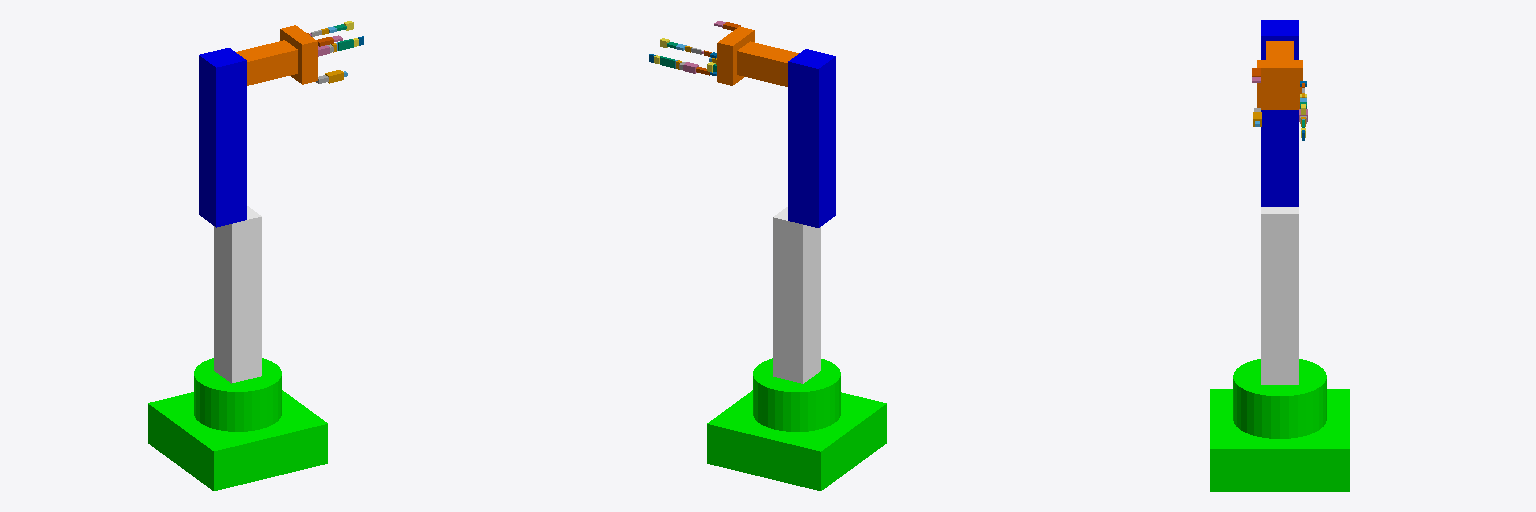
robot.urdf — robot:
<?xml version='1.0' encoding='utf-8'?>
<robot name="robot">
  <link name="base_link">
    <visual>
      <origin xyz="0 0 0.125" rpy="0 0 0" />
      <geometry>
        <box size="0.75 0.75 0.25" />
      </geometry>
      <material name="green" />
    </visual>
    <visual>
      <origin xyz="0 0 0.375" rpy="0 0 0" />
      <geometry>
        <cylinder length="0.25" radius="0.25" />
      </geometry>
      <material name="green">
        <color rgba="0 1 0 1" />
      </material>
    </visual>
    <collision>
      <geometry>
        <box size="0.75 0.75 0.5" />
      </geometry>
    </collision>
    <inertial>
      <mass value="0.5" />
      <inertia ixx="0.034" ixy="0.0" ixz="0.0" iyy="0.034" iyz="0.0" izz="0.034" />
    </inertial>
  </link>
  <link name="support_link">
    <visual>
      <origin xyz="0 0 0.5" rpy="0 0 0" />
      <geometry>
        <box size="0.2 0.2 1" />
      </geometry>
      <material name="white">
        <color rgba="1 1 1 1" />
      </material>
    </visual>
    <collision>
      <geometry>
        <box size="0.2 0.2 1" />
      </geometry>
    </collision>
    <inertial>
      <mass value="0.1" />
      <inertia ixx="0.01" ixy="0.0" ixz="0.0" iyy="0.01" iyz="0.0" izz="0.01" />
    </inertial>
  </link>
  <joint name="support_joint" type="continuous">
    <origin xyz="0 0 0.5" rpy="0 0 0" />
    <parent link="base_link" />
    <child link="support_link" />
    <axis xyz="0 0 1" />
  </joint>
  <link name="arm_link">
    <visual>
      <origin xyz="0 0 0.5" rpy="0 0 0" />
      <geometry>
        <box size="0.2 0.2 1" />
      </geometry>
      <material name="blue">
        <color rgba="0 0 1 1" />
      </material>
    </visual>
    <collision>
      <geometry>
        <box size="0.2 0.2 1" />
      </geometry>
    </collision>
    <inertial>
      <mass value="0.1" />
      <inertia ixx="0.01" ixy="0.0" ixz="0.0" iyy="0.01" iyz="0.0" izz="0.01" />
    </inertial>
  </link>
  <joint name="arm_joint" type="revolute">
    <origin xyz="-0.1 0 1" rpy="0 0 0" />
    <parent link="support_link" />
    <child link="arm_link" />
    <axis xyz="0 1 0" />
    <limit lower="-3.14" upper="3.14" effort="1.0" velocity="1.0" />
  </joint>
  <link name="wrist_link">
    <visual>
      <origin xyz="0 0 0.25" rpy="0 0 0" />
      <geometry>
        <box size="0.15 0.15 0.5" />
      </geometry>
      <material name="orange">
        <color rgba="1 0.5 0 1" />
      </material>
    </visual>
    <collision>
      <geometry>
        <box size="0.15 0.15 0.5" />
      </geometry>
    </collision>
    <inertial>
      <mass value="0.1" />
      <inertia ixx="0.01" ixy="0.0" ixz="0.0" iyy="0.01" iyz="0.0" izz="0.01" />
    </inertial>
  </link>
  <joint name="wrist_joint" type="fixed">
    <origin xyz="0 0 0.9" rpy="0 1.571 0" />
    <parent link="arm_link" />
    <child link="wrist_link" />
  </joint>
  <link name="palm_link">
    <visual>
      <origin xyz="0 0 0.05" rpy="0 0 0" />
      <geometry>
        <box size="0.25 0.25 0.1" />
      </geometry>
      <material name="orange" />
    </visual>
    <collision>
      <geometry>
        <box size="0.25 0.25 0.1" />
      </geometry>
    </collision>
    <inertial>
      <mass value="0.1" />
      <inertia ixx="0.01" ixy="0.0" ixz="0.0" iyy="0.01" iyz="0.0" izz="0.01" />
    </inertial>
  </link>
  <joint name="palm_joint" type="fixed">
    <origin xyz="0 0 0.45" rpy="0 0 0" />
    <parent link="wrist_link" />
    <child link="palm_link" />
  </joint>
  <link name="finger_link_0_0">
    <visual>
      <origin xyz="0 0 0.0475" rpy="0 0 0" />
      <geometry>
        <box size="0.025 0.045 0.095" />
      </geometry>
    </visual>
    <collision>
      <geometry>
        <box size="0.025 0.045 0.095" />
      </geometry>
    </collision>
    <inertial>
      <mass value="0.032" />
      <inertia ixx="0.0" iyy="0.0" izz="0.0" ixy="0" ixz="0" iyz="0" />
    </inertial>
  </link>
  <joint name="finger_joint_palm_link_to_finger_link_0_0" type="revolute">
    <origin xyz="-0.111 -0.125 0.1" rpy="0 0 0" />
    <parent link="palm_link" />
    <child link="finger_link_0_0" />
    <axis xyz="1.0 0.0 0.0" />
    <limit lower="-3.142" upper="3.142" effort="10" velocity="10" />
  </joint>
  <link name="finger_link_0_1">
    <visual>
      <origin xyz="0 0 0.0285" rpy="0 0 0" />
      <geometry>
        <box size="0.013 0.048 0.057" />
      </geometry>
    </visual>
    <collision>
      <geometry>
        <box size="0.013 0.048 0.057" />
      </geometry>
    </collision>
    <inertial>
      <mass value="0.011" />
      <inertia ixx="0.0" iyy="0.0" izz="0.0" ixy="0" ixz="0" iyz="0" />
    </inertial>
  </link>
  <joint name="finger_joint_finger_link_0_0_to_finger_link_0_1" type="revolute">
    <origin xyz="0.0 0.0 0.095" rpy="0 0 0" />
    <parent link="finger_link_0_0" />
    <child link="finger_link_0_1" />
    <axis xyz="0.0 1.0 0.0" />
    <limit lower="-3.142" upper="3.142" effort="10" velocity="10" />
  </joint>
  <link name="finger_link_1_0">
    <visual>
      <origin xyz="0 0 0.0325" rpy="0 0 0" />
      <geometry>
        <box size="0.029 0.036 0.065" />
      </geometry>
    </visual>
    <collision>
      <geometry>
        <box size="0.029 0.036 0.065" />
      </geometry>
    </collision>
    <inertial>
      <mass value="0.02" />
      <inertia ixx="0.0" iyy="0.0" izz="0.0" ixy="0" ixz="0" iyz="0" />
    </inertial>
  </link>
  <joint name="finger_joint_palm_link_to_finger_link_1_0" type="revolute">
    <origin xyz="0.125 -0.12 0.1" rpy="0 0 0" />
    <parent link="palm_link" />
    <child link="finger_link_1_0" />
    <axis xyz="0.0 1.0 0.0" />
    <limit lower="-3.142" upper="3.142" effort="10" velocity="10" />
  </joint>
  <link name="finger_link_1_1">
    <visual>
      <origin xyz="0 0 0.049" rpy="0 0 0" />
      <geometry>
        <box size="0.045 0.048 0.098" />
      </geometry>
    </visual>
    <collision>
      <geometry>
        <box size="0.045 0.048 0.098" />
      </geometry>
    </collision>
    <inertial>
      <mass value="0.064" />
      <inertia ixx="0.0" iyy="0.0" izz="0.0" ixy="0" ixz="0" iyz="0" />
    </inertial>
  </link>
  <joint name="finger_joint_finger_link_1_0_to_finger_link_1_1" type="revolute">
    <origin xyz="0.0 0.0 0.065" rpy="0 0 0" />
    <parent link="finger_link_1_0" />
    <child link="finger_link_1_1" />
    <axis xyz="1.0 0.0 0.0" />
    <limit lower="-3.142" upper="3.142" effort="10" velocity="10" />
  </joint>
  <link name="finger_link_1_2">
    <visual>
      <origin xyz="0 0 0.014" rpy="0 0 0" />
      <geometry>
        <box size="0.023 0.025 0.028" />
      </geometry>
    </visual>
    <collision>
      <geometry>
        <box size="0.023 0.025 0.028" />
      </geometry>
    </collision>
    <inertial>
      <mass value="0.005" />
      <inertia ixx="0.0" iyy="0.0" izz="0.0" ixy="0" ixz="0" iyz="0" />
    </inertial>
  </link>
  <joint name="finger_joint_finger_link_1_1_to_finger_link_1_2" type="revolute">
    <origin xyz="0.0 0.0 0.098" rpy="0 0 0" />
    <parent link="finger_link_1_1" />
    <child link="finger_link_1_2" />
    <axis xyz="1.0 0.0 0.0" />
    <limit lower="-3.142" upper="3.142" effort="10" velocity="10" />
  </joint>
  <link name="finger_link_2_0">
    <visual>
      <origin xyz="0 0 0.011" rpy="0 0 0" />
      <geometry>
        <box size="0.041 0.015 0.022" />
      </geometry>
    </visual>
    <collision>
      <geometry>
        <box size="0.041 0.015 0.022" />
      </geometry>
    </collision>
    <inertial>
      <mass value="0.004" />
      <inertia ixx="0.0" iyy="0.0" izz="0.0" ixy="0" ixz="0" iyz="0" />
    </inertial>
  </link>
  <joint name="finger_joint_palm_link_to_finger_link_2_0" type="revolute">
    <origin xyz="0.039 0.125 0.1" rpy="0 0 0" />
    <parent link="palm_link" />
    <child link="finger_link_2_0" />
    <axis xyz="-1.0 0.0 0.0" />
    <limit lower="-3.142" upper="3.142" effort="10" velocity="10" />
  </joint>
  <link name="finger_link_2_1">
    <visual>
      <origin xyz="0 0 0.0175" rpy="0 0 0" />
      <geometry>
        <box size="0.044 0.038 0.035" />
      </geometry>
    </visual>
    <collision>
      <geometry>
        <box size="0.044 0.038 0.035" />
      </geometry>
    </collision>
    <inertial>
      <mass value="0.018" />
      <inertia ixx="0.0" iyy="0.0" izz="0.0" ixy="0" ixz="0" iyz="0" />
    </inertial>
  </link>
  <joint name="finger_joint_finger_link_2_0_to_finger_link_2_1" type="revolute">
    <origin xyz="0.0 0.0 0.022" rpy="0 0 0" />
    <parent link="finger_link_2_0" />
    <child link="finger_link_2_1" />
    <axis xyz="1.0 0.0 0.0" />
    <limit lower="-3.142" upper="3.142" effort="10" velocity="10" />
  </joint>
  <link name="finger_link_3_0">
    <visual>
      <origin xyz="0 0 0.019" rpy="0 0 0" />
      <geometry>
        <box size="0.017 0.037 0.038" />
      </geometry>
    </visual>
    <collision>
      <geometry>
        <box size="0.017 0.037 0.038" />
      </geometry>
    </collision>
    <inertial>
      <mass value="0.007" />
      <inertia ixx="0.0" iyy="0.0" izz="0.0" ixy="0" ixz="0" iyz="0" />
    </inertial>
  </link>
  <joint name="finger_joint_palm_link_to_finger_link_3_0" type="revolute">
    <origin xyz="-0.04 0.125 0.1" rpy="0 0 0" />
    <parent link="palm_link" />
    <child link="finger_link_3_0" />
    <axis xyz="-1.0 0.0 0.0" />
    <limit lower="-3.142" upper="3.142" effort="10" velocity="10" />
  </joint>
  <link name="finger_link_3_1">
    <visual>
      <origin xyz="0 0 0.025" rpy="0 0 0" />
      <geometry>
        <box size="0.026 0.012 0.05" />
      </geometry>
    </visual>
    <collision>
      <geometry>
        <box size="0.026 0.012 0.05" />
      </geometry>
    </collision>
    <inertial>
      <mass value="0.005" />
      <inertia ixx="0.0" iyy="0.0" izz="0.0" ixy="0" ixz="0" iyz="0" />
    </inertial>
  </link>
  <joint name="finger_joint_finger_link_3_0_to_finger_link_3_1" type="revolute">
    <origin xyz="0.0 0.0 0.038" rpy="0 0 0" />
    <parent link="finger_link_3_0" />
    <child link="finger_link_3_1" />
    <axis xyz="0.0 1.0 0.0" />
    <limit lower="-3.142" upper="3.142" effort="10" velocity="10" />
  </joint>
  <link name="finger_link_3_2">
    <visual>
      <origin xyz="0 0 0.007" rpy="0 0 0" />
      <geometry>
        <box size="0.012 0.014 0.014" />
      </geometry>
    </visual>
    <collision>
      <geometry>
        <box size="0.012 0.014 0.014" />
      </geometry>
    </collision>
    <inertial>
      <mass value="0.001" />
      <inertia ixx="0.0" iyy="0.0" izz="0.0" ixy="0" ixz="0" iyz="0" />
    </inertial>
  </link>
  <joint name="finger_joint_finger_link_3_1_to_finger_link_3_2" type="revolute">
    <origin xyz="0.0 0.0 0.05" rpy="0 0 0" />
    <parent link="finger_link_3_1" />
    <child link="finger_link_3_2" />
    <axis xyz="0.0 1.0 0.0" />
    <limit lower="-3.142" upper="3.142" effort="10" velocity="10" />
  </joint>
  <link name="finger_link_3_3">
    <visual>
      <origin xyz="0 0 0.0345" rpy="0 0 0" />
      <geometry>
        <box size="0.026 0.013 0.069" />
      </geometry>
    </visual>
    <collision>
      <geometry>
        <box size="0.026 0.013 0.069" />
      </geometry>
    </collision>
    <inertial>
      <mass value="0.007" />
      <inertia ixx="0.0" iyy="0.0" izz="0.0" ixy="0" ixz="0" iyz="0" />
    </inertial>
  </link>
  <joint name="finger_joint_finger_link_3_2_to_finger_link_3_3" type="revolute">
    <origin xyz="0.0 0.0 0.014" rpy="0 0 0" />
    <parent link="finger_link_3_2" />
    <child link="finger_link_3_3" />
    <axis xyz="0.0 1.0 0.0" />
    <limit lower="-3.142" upper="3.142" effort="10" velocity="10" />
  </joint>
  <link name="finger_link_3_4">
    <visual>
      <origin xyz="0 0 0.0205" rpy="0 0 0" />
      <geometry>
        <box size="0.03 0.014 0.041" />
      </geometry>
    </visual>
    <collision>
      <geometry>
        <box size="0.03 0.014 0.041" />
      </geometry>
    </collision>
    <inertial>
      <mass value="0.005" />
      <inertia ixx="0.0" iyy="0.0" izz="0.0" ixy="0" ixz="0" iyz="0" />
    </inertial>
  </link>
  <joint name="finger_joint_finger_link_3_3_to_finger_link_3_4" type="revolute">
    <origin xyz="0.0 0.0 0.069" rpy="0 0 0" />
    <parent link="finger_link_3_3" />
    <child link="finger_link_3_4" />
    <axis xyz="1.0 0.0 0.0" />
    <limit lower="-3.142" upper="3.142" effort="10" velocity="10" />
  </joint>
  <link name="finger_link_3_5">
    <visual>
      <origin xyz="0 0 0.0245" rpy="0 0 0" />
      <geometry>
        <box size="0.017 0.042 0.049" />
      </geometry>
    </visual>
    <collision>
      <geometry>
        <box size="0.017 0.042 0.049" />
      </geometry>
    </collision>
    <inertial>
      <mass value="0.01" />
      <inertia ixx="0.0" iyy="0.0" izz="0.0" ixy="0" ixz="0" iyz="0" />
    </inertial>
  </link>
  <joint name="finger_joint_finger_link_3_4_to_finger_link_3_5" type="revolute">
    <origin xyz="0.0 0.0 0.041" rpy="0 0 0" />
    <parent link="finger_link_3_4" />
    <child link="finger_link_3_5" />
    <axis xyz="1.0 0.0 0.0" />
    <limit lower="-3.142" upper="3.142" effort="10" velocity="10" />
  </joint>
  <link name="finger_link_3_6">
    <visual>
      <origin xyz="0 0 0.031" rpy="0 0 0" />
      <geometry>
        <box size="0.017 0.038 0.062" />
      </geometry>
    </visual>
    <collision>
      <geometry>
        <box size="0.017 0.038 0.062" />
      </geometry>
    </collision>
    <inertial>
      <mass value="0.012" />
      <inertia ixx="0.0" iyy="0.0" izz="0.0" ixy="0" ixz="0" iyz="0" />
    </inertial>
  </link>
  <joint name="finger_joint_finger_link_3_5_to_finger_link_3_6" type="revolute">
    <origin xyz="0.0 0.0 0.049" rpy="0 0 0" />
    <parent link="finger_link_3_5" />
    <child link="finger_link_3_6" />
    <axis xyz="0.0 1.0 0.0" />
    <limit lower="-3.142" upper="3.142" effort="10" velocity="10" />
  </joint>
  <link name="finger_link_3_7">
    <visual>
      <origin xyz="0 0 0.0235" rpy="0 0 0" />
      <geometry>
        <box size="0.043 0.03 0.047" />
      </geometry>
    </visual>
    <collision>
      <geometry>
        <box size="0.043 0.03 0.047" />
      </geometry>
    </collision>
    <inertial>
      <mass value="0.018" />
      <inertia ixx="0.0" iyy="0.0" izz="0.0" ixy="0" ixz="0" iyz="0" />
    </inertial>
  </link>
  <joint name="finger_joint_finger_link_3_6_to_finger_link_3_7" type="revolute">
    <origin xyz="0.0 0.0 0.062" rpy="0 0 0" />
    <parent link="finger_link_3_6" />
    <child link="finger_link_3_7" />
    <axis xyz="0.0 1.0 0.0" />
    <limit lower="-3.142" upper="3.142" effort="10" velocity="10" />
  </joint>
  <link name="finger_link_4_0">
    <visual>
      <origin xyz="0 0 0.021" rpy="0 0 0" />
      <geometry>
        <box size="0.015 0.029 0.042" />
      </geometry>
    </visual>
    <collision>
      <geometry>
        <box size="0.015 0.029 0.042" />
      </geometry>
    </collision>
    <inertial>
      <mass value="0.005" />
      <inertia ixx="0.0" iyy="0.0" izz="0.0" ixy="0" ixz="0" iyz="0" />
    </inertial>
  </link>
  <joint name="finger_joint_palm_link_to_finger_link_4_0" type="revolute">
    <origin xyz="0.075 0.125 0.1" rpy="0 0 0" />
    <parent link="palm_link" />
    <child link="finger_link_4_0" />
    <axis xyz="-1.0 0.0 0.0" />
    <limit lower="-3.142" upper="3.142" effort="10" velocity="10" />
  </joint>
  <link name="finger_link_4_1">
    <visual>
      <origin xyz="0 0 0.046" rpy="0 0 0" />
      <geometry>
        <box size="0.024 0.028 0.092" />
      </geometry>
    </visual>
    <collision>
      <geometry>
        <box size="0.024 0.028 0.092" />
      </geometry>
    </collision>
    <inertial>
      <mass value="0.019" />
      <inertia ixx="0.0" iyy="0.0" izz="0.0" ixy="0" ixz="0" iyz="0" />
    </inertial>
  </link>
  <joint name="finger_joint_finger_link_4_0_to_finger_link_4_1" type="revolute">
    <origin xyz="0.0 0.0 0.042" rpy="0 0 0" />
    <parent link="finger_link_4_0" />
    <child link="finger_link_4_1" />
    <axis xyz="0.0 1.0 0.0" />
    <limit lower="-3.142" upper="3.142" effort="10" velocity="10" />
  </joint>
  <link name="finger_link_4_2">
    <visual>
      <origin xyz="0 0 0.0385" rpy="0 0 0" />
      <geometry>
        <box size="0.041 0.043 0.077" />
      </geometry>
    </visual>
    <collision>
      <geometry>
        <box size="0.041 0.043 0.077" />
      </geometry>
    </collision>
    <inertial>
      <mass value="0.041" />
      <inertia ixx="0.0" iyy="0.0" izz="0.0" ixy="0" ixz="0" iyz="0" />
    </inertial>
  </link>
  <joint name="finger_joint_finger_link_4_1_to_finger_link_4_2" type="revolute">
    <origin xyz="0.0 0.0 0.092" rpy="0 0 0" />
    <parent link="finger_link_4_1" />
    <child link="finger_link_4_2" />
    <axis xyz="0.0 1.0 0.0" />
    <limit lower="-3.142" upper="3.142" effort="10" velocity="10" />
  </joint>
  <link name="finger_link_4_3">
    <visual>
      <origin xyz="0 0 0.014" rpy="0 0 0" />
      <geometry>
        <box size="0.032 0.04 0.028" />
      </geometry>
    </visual>
    <collision>
      <geometry>
        <box size="0.032 0.04 0.028" />
      </geometry>
    </collision>
    <inertial>
      <mass value="0.011" />
      <inertia ixx="0.0" iyy="0.0" izz="0.0" ixy="0" ixz="0" iyz="0" />
    </inertial>
  </link>
  <joint name="finger_joint_finger_link_4_2_to_finger_link_4_3" type="revolute">
    <origin xyz="0.0 0.0 0.077" rpy="0 0 0" />
    <parent link="finger_link_4_2" />
    <child link="finger_link_4_3" />
    <axis xyz="1.0 0.0 0.0" />
    <limit lower="-3.142" upper="3.142" effort="10" velocity="10" />
  </joint>
  <link name="finger_link_4_4">
    <visual>
      <origin xyz="0 0 0.013" rpy="0 0 0" />
      <geometry>
        <box size="0.045 0.027 0.026" />
      </geometry>
    </visual>
    <collision>
      <geometry>
        <box size="0.045 0.027 0.026" />
      </geometry>
    </collision>
    <inertial>
      <mass value="0.009" />
      <inertia ixx="0.0" iyy="0.0" izz="0.0" ixy="0" ixz="0" iyz="0" />
    </inertial>
  </link>
  <joint name="finger_joint_finger_link_4_3_to_finger_link_4_4" type="revolute">
    <origin xyz="0.0 0.0 0.028" rpy="0 0 0" />
    <parent link="finger_link_4_3" />
    <child link="finger_link_4_4" />
    <axis xyz="0.0 1.0 0.0" />
    <limit lower="-3.142" upper="3.142" effort="10" velocity="10" />
  </joint>
  <link name="finger_link_4_5">
    <visual>
      <origin xyz="0 0 0.006" rpy="0 0 0" />
      <geometry>
        <box size="0.049 0.011 0.012" />
      </geometry>
    </visual>
    <collision>
      <geometry>
        <box size="0.049 0.011 0.012" />
      </geometry>
    </collision>
    <inertial>
      <mass value="0.002" />
      <inertia ixx="0.0" iyy="0.0" izz="0.0" ixy="0" ixz="0" iyz="0" />
    </inertial>
  </link>
  <joint name="finger_joint_finger_link_4_4_to_finger_link_4_5" type="revolute">
    <origin xyz="0.0 0.0 0.026" rpy="0 0 0" />
    <parent link="finger_link_4_4" />
    <child link="finger_link_4_5" />
    <axis xyz="1.0 0.0 0.0" />
    <limit lower="-3.142" upper="3.142" effort="10" velocity="10" />
  </joint>
  <link name="finger_link_4_6">
    <visual>
      <origin xyz="0 0 0.049" rpy="0 0 0" />
      <geometry>
        <box size="0.049 0.017 0.098" />
      </geometry>
    </visual>
    <collision>
      <geometry>
        <box size="0.049 0.017 0.098" />
      </geometry>
    </collision>
    <inertial>
      <mass value="0.024" />
      <inertia ixx="0.0" iyy="0.0" izz="0.0" ixy="0" ixz="0" iyz="0" />
    </inertial>
  </link>
  <joint name="finger_joint_finger_link_4_5_to_finger_link_4_6" type="revolute">
    <origin xyz="0.0 0.0 0.012" rpy="0 0 0" />
    <parent link="finger_link_4_5" />
    <child link="finger_link_4_6" />
    <axis xyz="0.0 1.0 0.0" />
    <limit lower="-3.142" upper="3.142" effort="10" velocity="10" />
  </joint>
  <link name="finger_link_4_7">
    <visual>
      <origin xyz="0 0 0.017" rpy="0 0 0" />
      <geometry>
        <box size="0.041 0.027 0.034" />
      </geometry>
    </visual>
    <collision>
      <geometry>
        <box size="0.041 0.027 0.034" />
      </geometry>
    </collision>
    <inertial>
      <mass value="0.011" />
      <inertia ixx="0.0" iyy="0.0" izz="0.0" ixy="0" ixz="0" iyz="0" />
    </inertial>
  </link>
  <joint name="finger_joint_finger_link_4_6_to_finger_link_4_7" type="revolute">
    <origin xyz="0.0 0.0 0.098" rpy="0 0 0" />
    <parent link="finger_link_4_6" />
    <child link="finger_link_4_7" />
    <axis xyz="1.0 0.0 0.0" />
    <limit lower="-3.142" upper="3.142" effort="10" velocity="10" />
  </joint>
  <link name="finger_link_4_8">
    <visual>
      <origin xyz="0 0 0.0185" rpy="0 0 0" />
      <geometry>
        <box size="0.048 0.012 0.037" />
      </geometry>
    </visual>
    <collision>
      <geometry>
        <box size="0.048 0.012 0.037" />
      </geometry>
    </collision>
    <inertial>
      <mass value="0.006" />
      <inertia ixx="0.0" iyy="0.0" izz="0.0" ixy="0" ixz="0" iyz="0" />
    </inertial>
  </link>
  <joint name="finger_joint_finger_link_4_7_to_finger_link_4_8" type="revolute">
    <origin xyz="0.0 0.0 0.034" rpy="0 0 0" />
    <parent link="finger_link_4_7" />
    <child link="finger_link_4_8" />
    <axis xyz="0.0 1.0 0.0" />
    <limit lower="-3.142" upper="3.142" effort="10" velocity="10" />
  </joint>
</robot>

--- Render facts (derived) ---
The picture shows the robot from 3 angles, left to right: view 1: azimuth 30°, elevation 25°; view 2: azimuth 150°, elevation 25°; view 3: azimuth 270°, elevation 25°; orthographic projection.
Model robot with 29 links and 28 joints (25 revolute, 1 continuous, 2 fixed), rooted at base_link, posed all joints at 0.
Links seen in each view (by area): view 1: base_link, arm_link, support_link, wrist_link, palm_link; view 2: base_link, arm_link, support_link, wrist_link, palm_link; view 3: base_link, support_link, arm_link, palm_link, wrist_link.
Boxes of the visible links, box(x1,y1,x2,y2) form: base_link: box(148, 358, 327, 490); arm_link: box(199, 48, 246, 227); support_link: box(214, 206, 261, 383); wrist_link: box(236, 40, 297, 85); palm_link: box(280, 25, 317, 84); base_link: box(707, 358, 886, 490); arm_link: box(788, 49, 835, 227); support_link: box(773, 207, 820, 383); wrist_link: box(737, 41, 798, 86); palm_link: box(717, 26, 754, 85); base_link: box(1210, 359, 1349, 491); support_link: box(1261, 207, 1298, 384); arm_link: box(1261, 20, 1298, 206); palm_link: box(1257, 60, 1302, 109); wrist_link: box(1266, 41, 1293, 59).
Size in the robot's own frame: 1.27 by 0.75 by 2.52 metres.
Geometry: primitives only (box / cylinder / sphere), no mesh files.